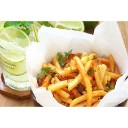frenchfries: (41, 53, 115, 103)
